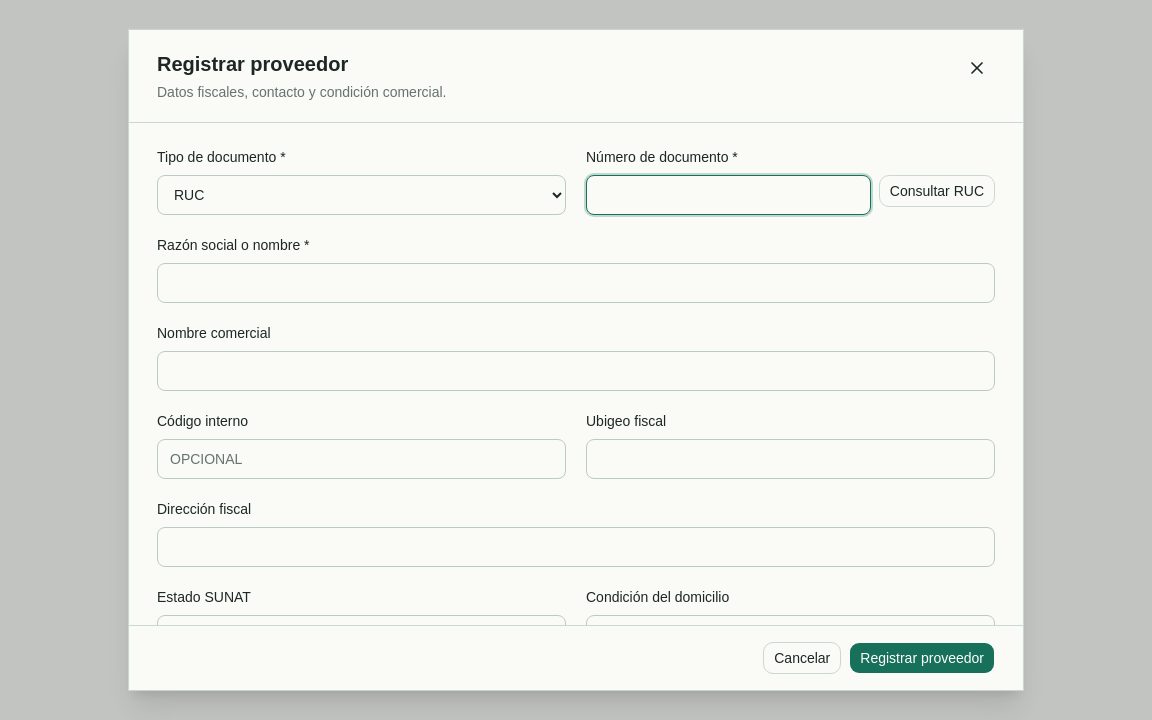
Test: DialogoProveedor › explica la validación de un campo opcional completado incorrectamente
Type "20131380951" into the field labelled "Número de documento *" at point(728, 195), box [586,175,871,215]
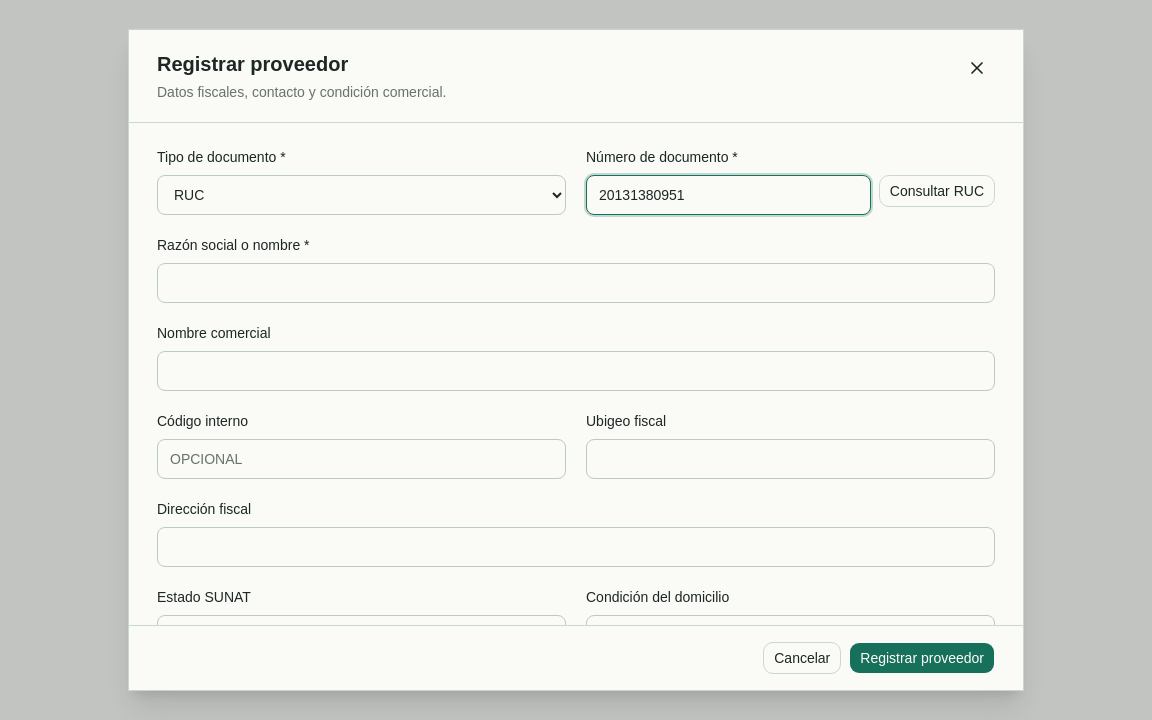
Type "Proveedor de prueba" into the field labelled "Razón social o nombre *" at point(576, 283), box [157,263,995,303]
(page scrolled)
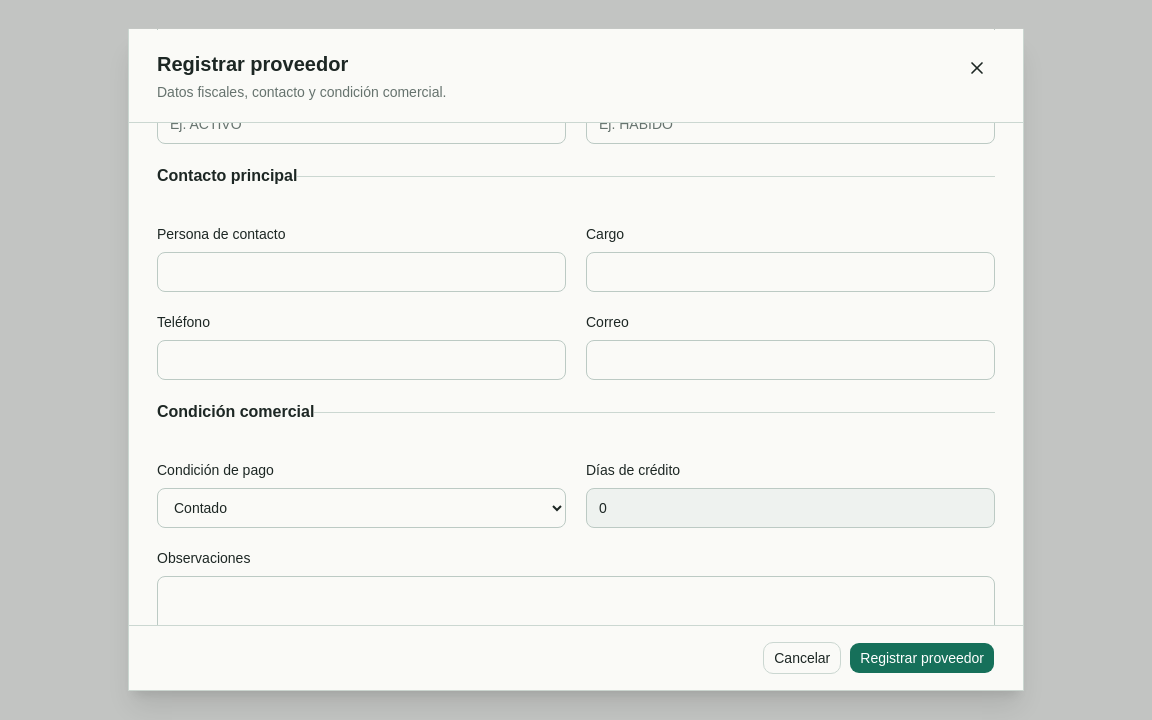
Type "ss" into the field labelled "Teléfono" at point(362, 360), box [157,340,566,380]
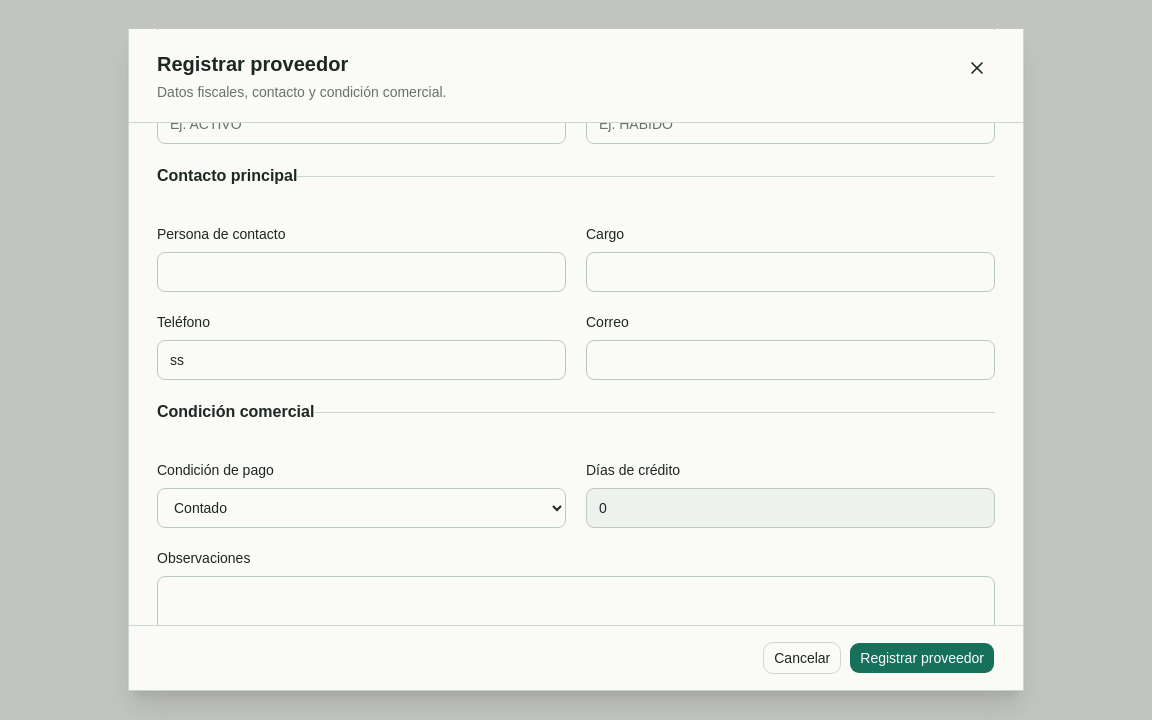
Click the button "Registrar proveedor" at point(922, 658), box [849,642,995,674]
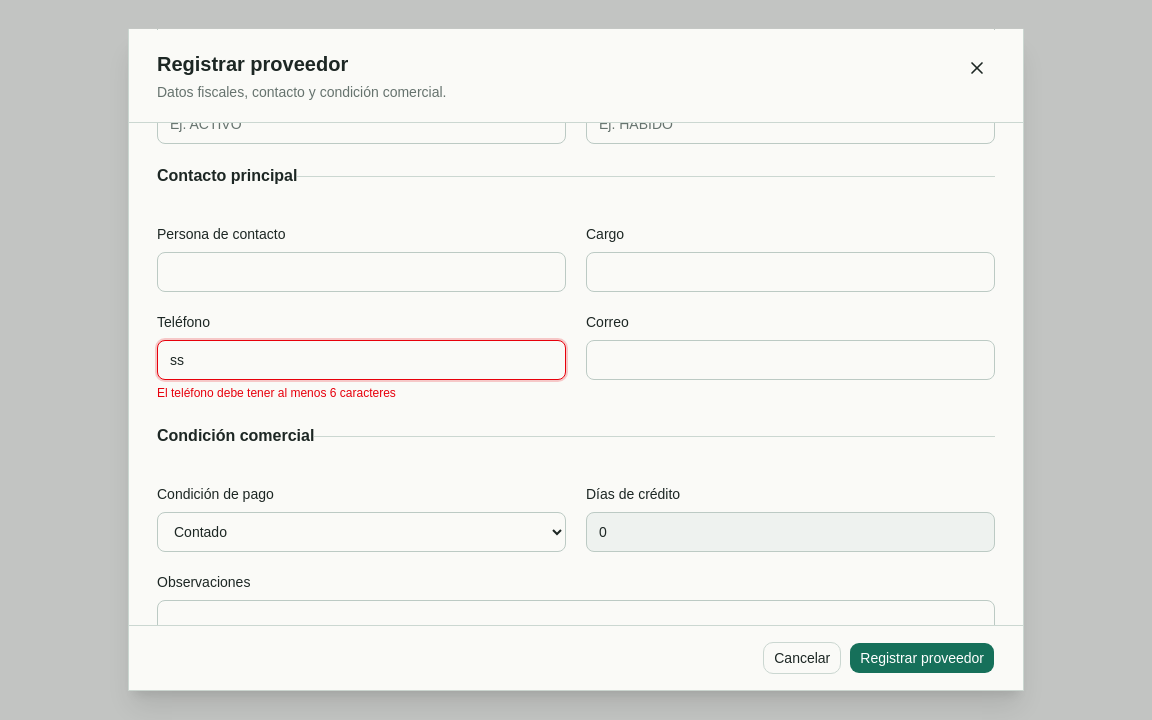
Check: the text "El teléfono debe tener al menos 6 caracteres" is shown, box [157,386,396,400]
